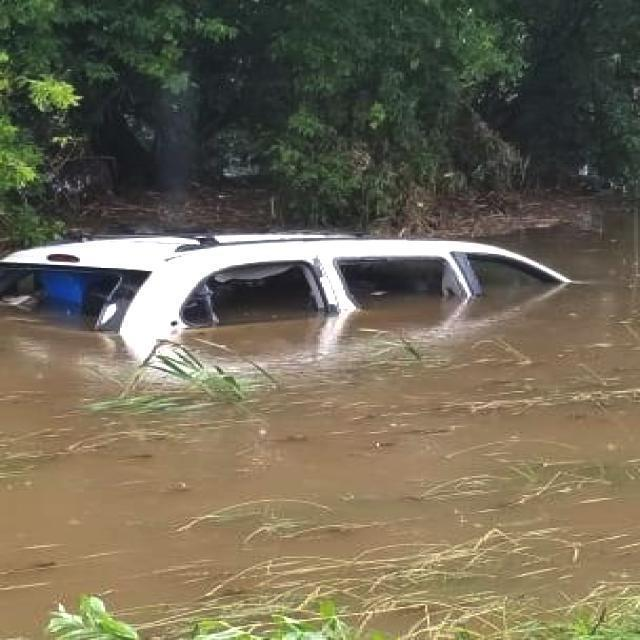water: (0, 209, 638, 638)
